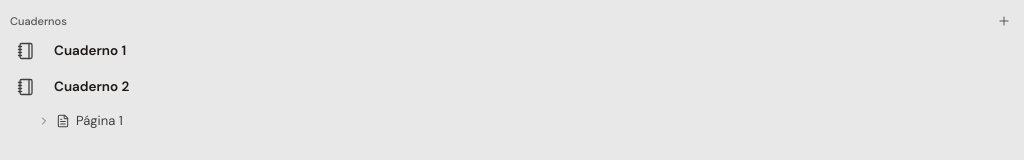
it: SidebarTreeClient › keeps a sibling mutation's optimistic update after a concurrent mutation's rollback
The image size is (1024, 160).
Note: Mutation 1 (will fail): rename notebook n1.
Double-click the button "Cuaderno 1": [90, 50] box x1=46 y1=35 x2=960 y2=67
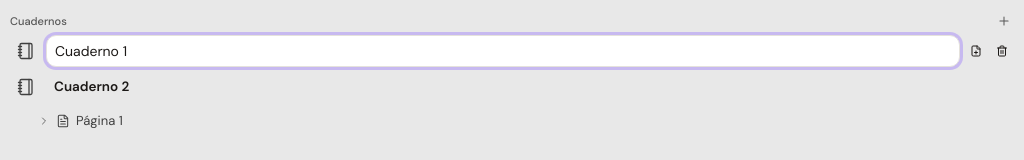
Replace the text in the field with "Cuaderno renombrado": [503, 51] box x1=46 y1=35 x2=960 y2=67
Then press Enter
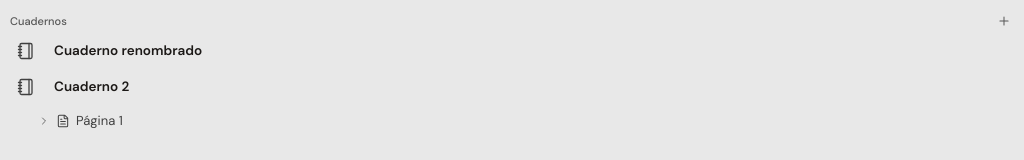
Double-click the link "Página 1": [80, 120] box x1=38 y1=112 x2=123 y2=129
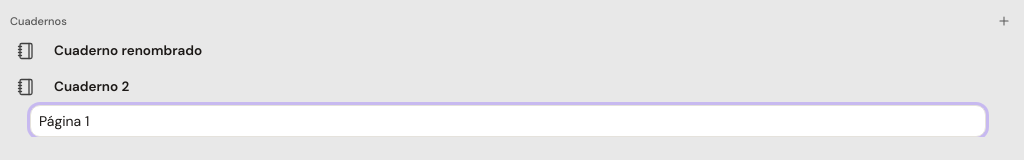
Replace the text in the field with "Página renombrada": [508, 121] box x1=30 y1=105 x2=986 y2=137
Then press Enter
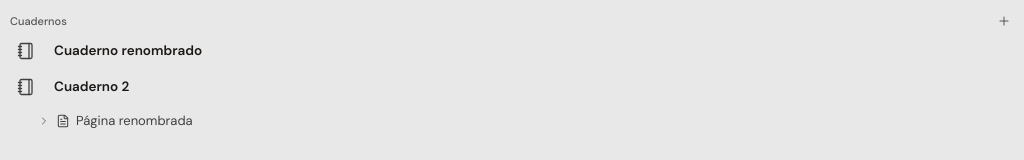
Expected: the link "Página 1" is not shown
Expected: the text "Página renombrada" is shown, x1=76 y1=112 x2=193 y2=130
